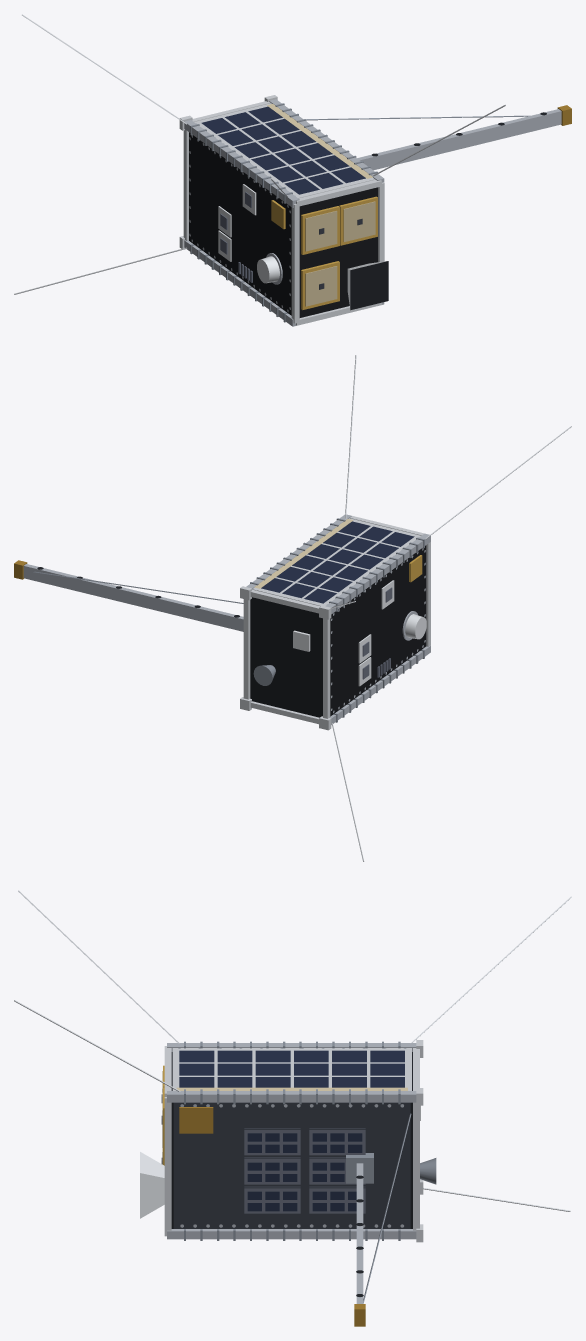
File: hawkeye360-block1.glb
3 views of the same model, one above another, from view 1: azimuth 30°, elevation 25°; view 2: azimuth 150°, elevation 25°; view 3: azimuth 270°, elevation 25° (orthographic). The views are drawn at different scales.
Parts seen in each view (by area): view 1: body, solar-panel, foil; view 2: body, solar-panel, foil; view 3: body, solar-panel, foil.
Boxes of the visible parts, <box> form: body: <box>14,14,571,326</box>; solar-panel: <box>201,106,365,194</box>; foil: <box>267,104,377,310</box>; body: <box>14,355,571,861</box>; solar-panel: <box>261,521,414,603</box>; foil: <box>254,519,422,588</box>; body: <box>14,890,571,1326</box>; solar-panel: <box>179,1050,404,1211</box>; foil: <box>162,1065,407,1165</box>.
Bounding box in the file's own units: 1.09 × 0.6884 × 0.9886.
